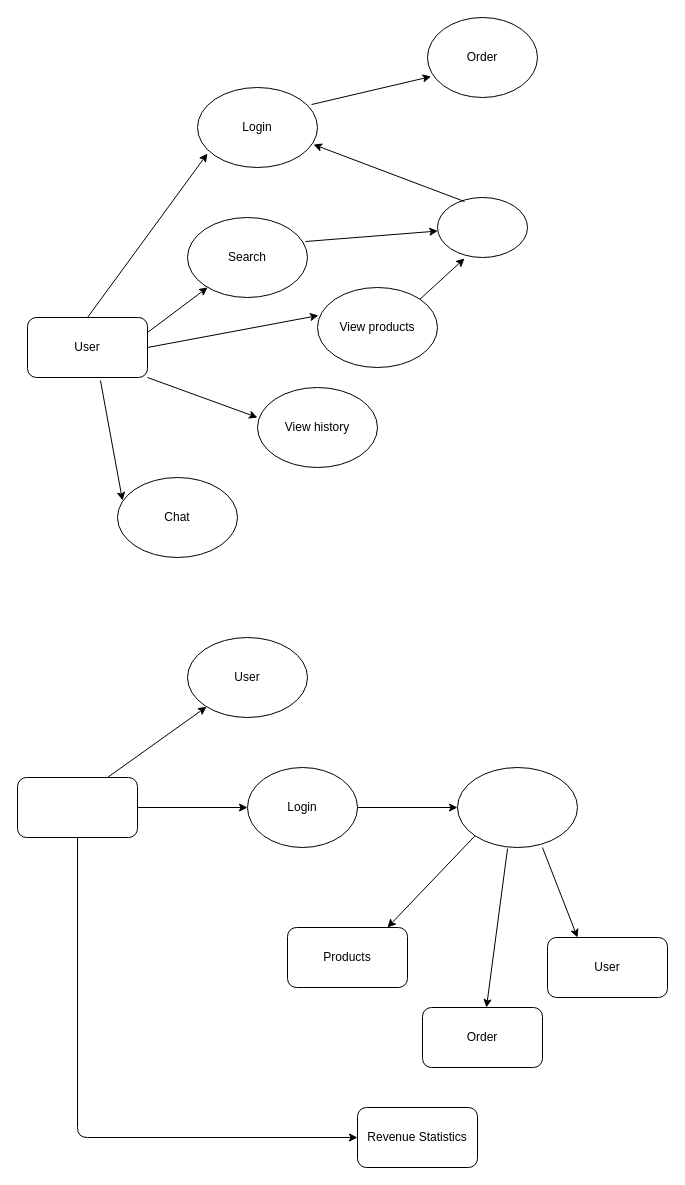
The diagram is 685 pixels wide and 1185 high, and some of its shapes have lost their labels. Here are the shapes that lost their labels. From the top down, the centre of each, then its label:
At point (482, 227): "detail".
At point (77, 807): "Admin".
At point (517, 807): "CRUD".
